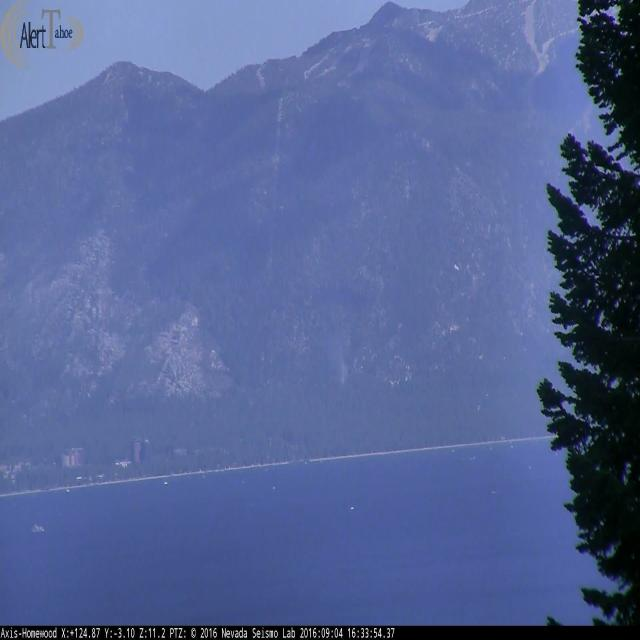smoke: (332, 343, 347, 382)
